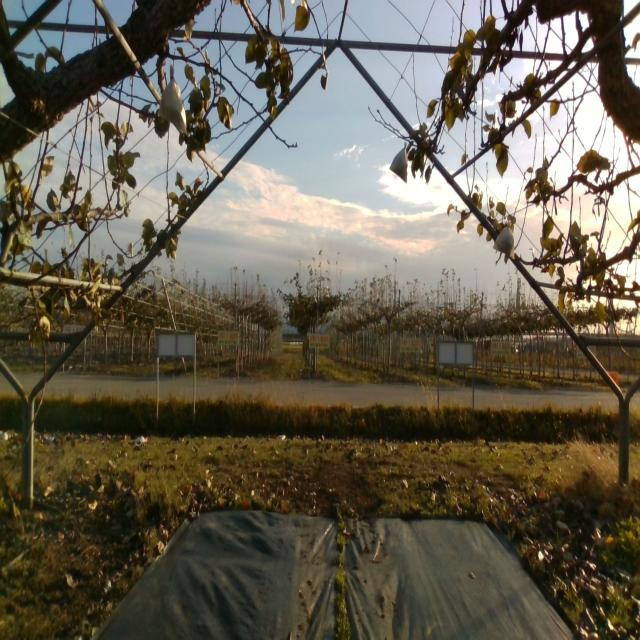pearbags: (158, 64, 189, 140), (493, 223, 516, 261), (390, 142, 408, 181)
